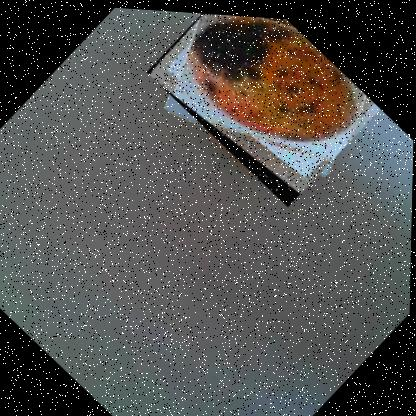mango_rotten: (143, 8, 383, 210)
